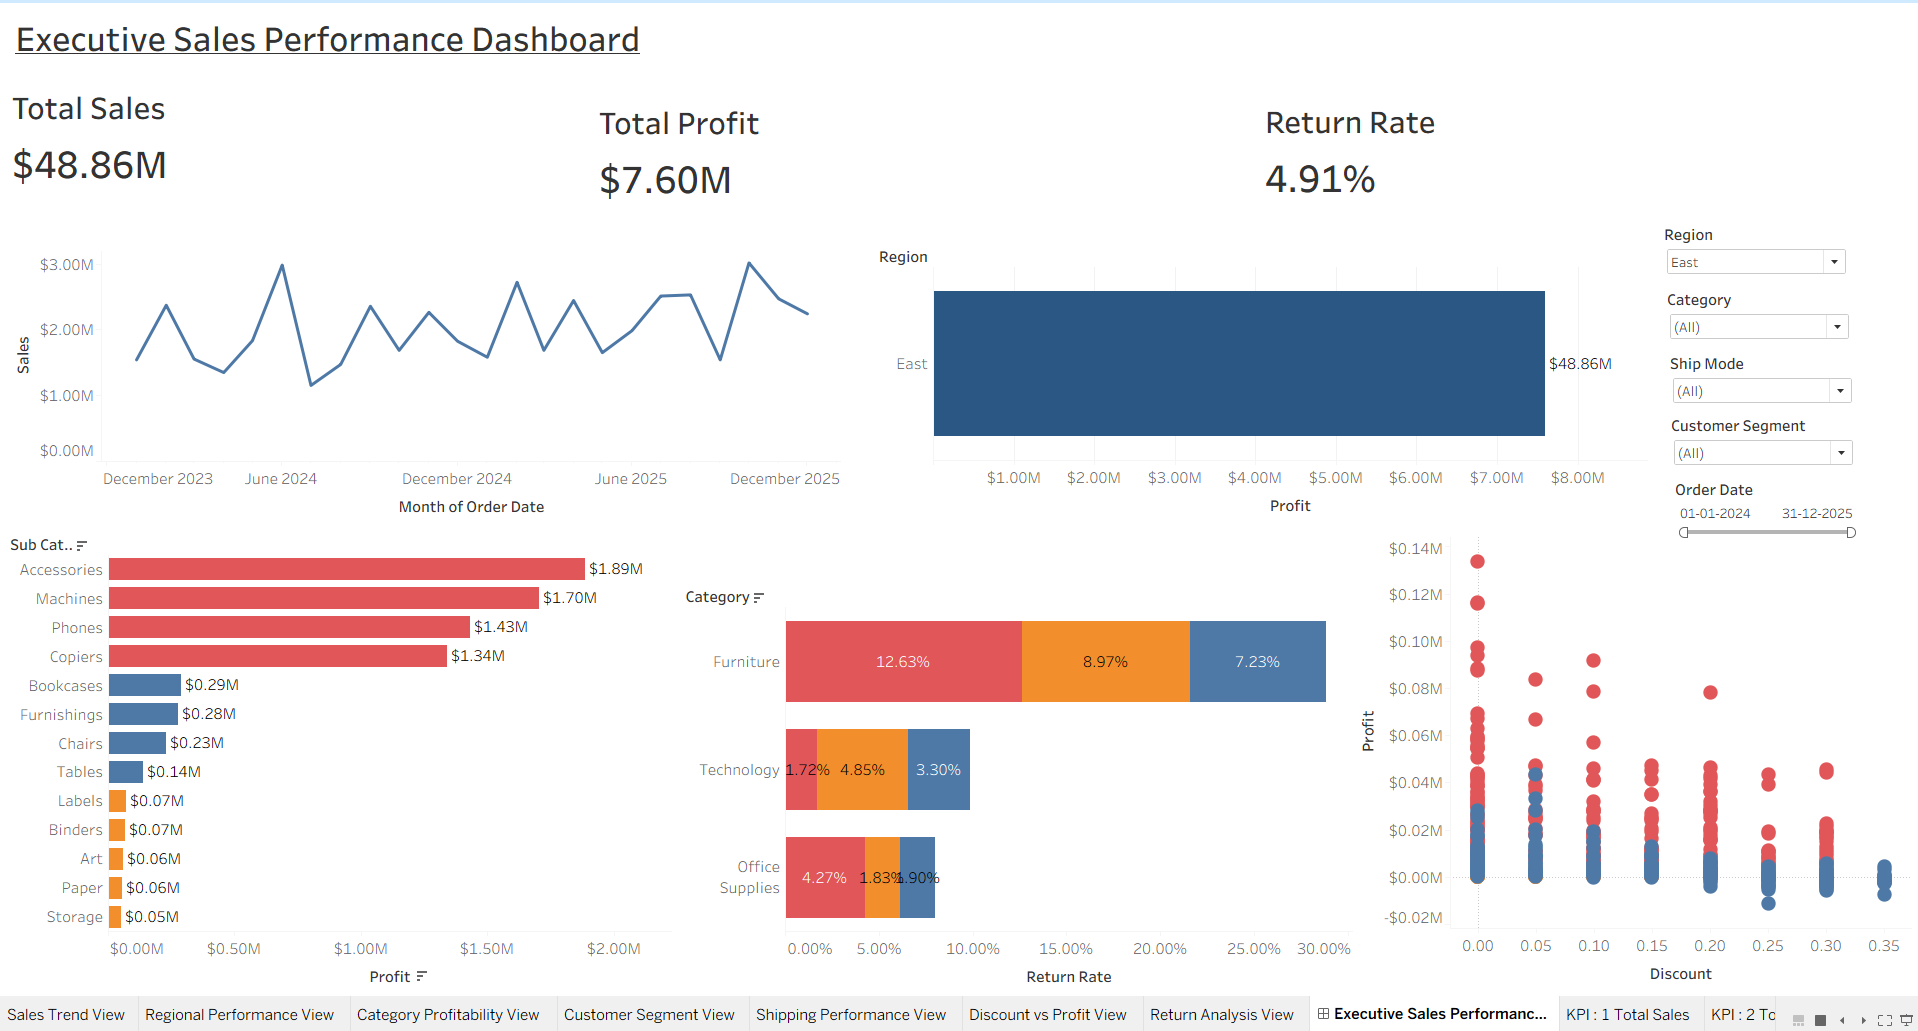

The page's visual inventory and layout, read from the dashboard file:
{"tool":"tableau","page":{"name":"Executive Sales Performance Dashboard","canvas":[1000,1000],"units":"permille","ordinal":0},"visuals":[{"type":"title","box":[4.8,10,990.4,66.2]},{"type":"worksheet","title":"KPI : 1 Total Sales","mark":"Automatic","box":[4.2,79.9,289.3,148.6]},{"type":"worksheet","title":"KPI : 3 Return Rates","mark":"Automatic","box":[657,93.6,333.3,142.3]},{"type":"worksheet","title":"KPI : 2 Total Profit","mark":"Automatic","box":[309.8,94.9,332.7,144.8]},{"type":"filter","title":"Sales Trend View","param":"[federated.0rwq6fc1utdq9s1gsbs8d0cqqr26].[none:region:nk]","box":[866.8,222.2,96.4,66.2]},{"type":"worksheet","title":"Regional Performance View","mark":"Automatic","rows":["region"],"cols":["profit"],"box":[444.2,245.9,414.1,278.4]},{"type":"worksheet","title":"Sales Trend View","mark":"Automatic","rows":["sales"],"cols":["order_date"],"box":[2.4,249.7,435.8,274.7]},{"type":"filter","title":"Sales Trend View","param":"[federated.0rwq6fc1utdq9s1gsbs8d0cqqr26].[none:category:nk]","box":[868,288.4,96.4,63.7]},{"type":"filter","title":"Sales Trend View","param":"[federated.0rwq6fc1utdq9s1gsbs8d0cqqr26].[none:ship_mode:nk]","box":[869.8,352.1,96.4,59.9]},{"type":"filter","title":"Sales Trend View","param":"[federated.0rwq6fc1utdq9s1gsbs8d0cqqr26].[none:customer_segment:nk]","box":[870.4,414.5,96.4,64.9]},{"type":"filter","title":"Sales Trend View","param":"[federated.0rwq6fc1utdq9s1gsbs8d0cqqr26].[none:order_date:qk]","box":[872.2,479.4,96.4,81.2]},{"type":"worksheet","title":"Category Profitability View","mark":"Automatic","rows":["sub_category"],"cols":["profit"],"box":[4.2,535.6,346,461.9]},{"type":"worksheet","title":"Discount vs Profit View","mark":"Circle","rows":["profit"],"cols":["discount"],"box":[703.1,538.1,292.7,456.9]},{"type":"worksheet","title":"Return Analysis View","mark":"Automatic","rows":["category"],"cols":["return_flag"],"box":[356.8,588,347.8,409.5]}]}

Visuals, with their boxes on the dashboard's canvas, which has no fixed pixel size, in thousandths of its width and height (x1, y1, x2, y2). These are canvas units, not pixel positions in the 1918x1031 screenshot, which may show the page scaled, cropped or inside an application window:
title: (5, 10, 995, 76)
"KPI : 1 Total Sales" worksheet: (4, 80, 294, 228)
"KPI : 3 Return Rates" worksheet: (657, 94, 990, 236)
"KPI : 2 Total Profit" worksheet: (310, 95, 642, 240)
"Sales Trend View" filter: (867, 222, 963, 288)
"Regional Performance View" worksheet: (444, 246, 858, 524)
"Sales Trend View" worksheet: (2, 250, 438, 524)
"Sales Trend View" filter: (868, 288, 964, 352)
"Sales Trend View" filter: (870, 352, 966, 412)
"Sales Trend View" filter: (870, 414, 967, 479)
"Sales Trend View" filter: (872, 479, 969, 561)
"Category Profitability View" worksheet: (4, 536, 350, 998)
"Discount vs Profit View" worksheet (Circle marks): (703, 538, 996, 995)
"Return Analysis View" worksheet: (357, 588, 705, 998)
